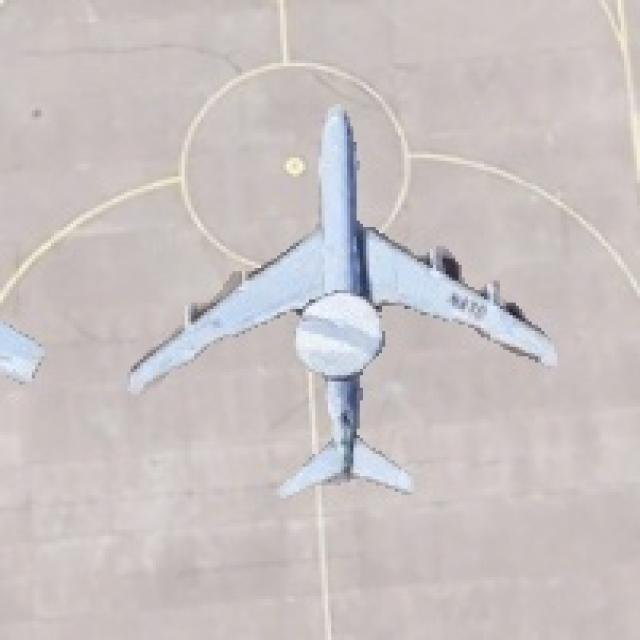E-3_TopDown: (124, 101, 557, 498)
